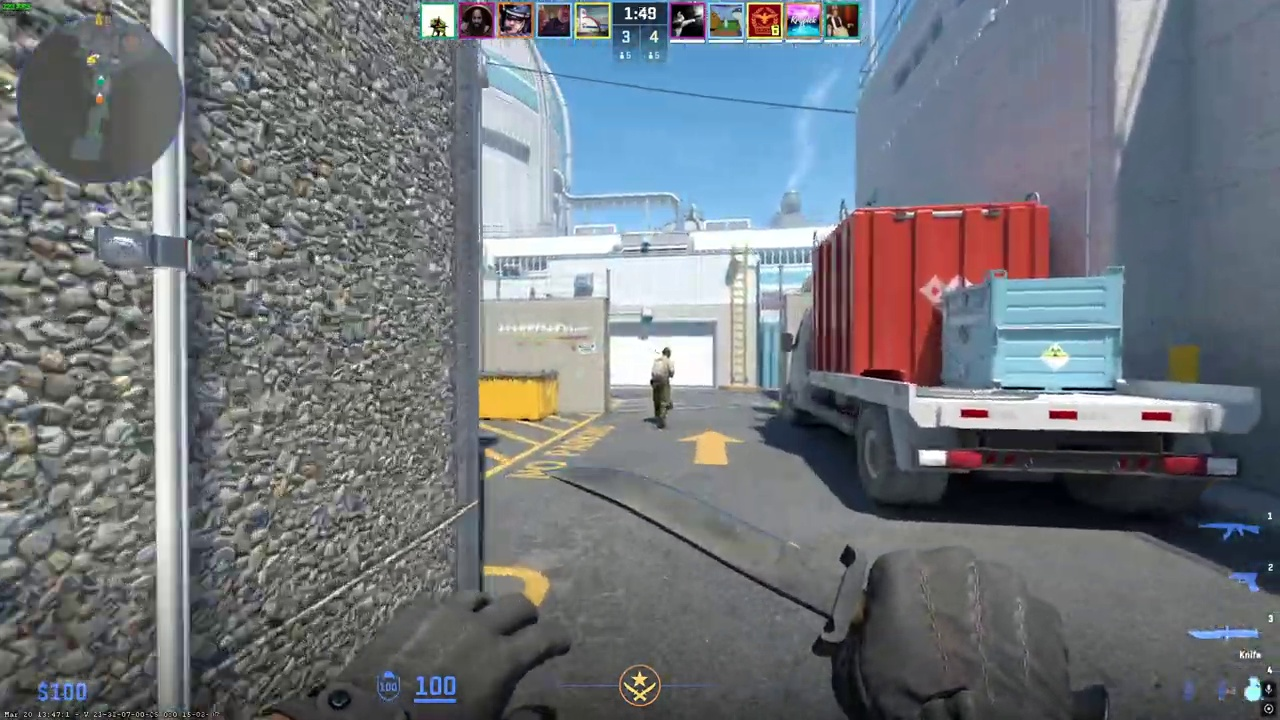Terrorist: (651, 347, 675, 428)
